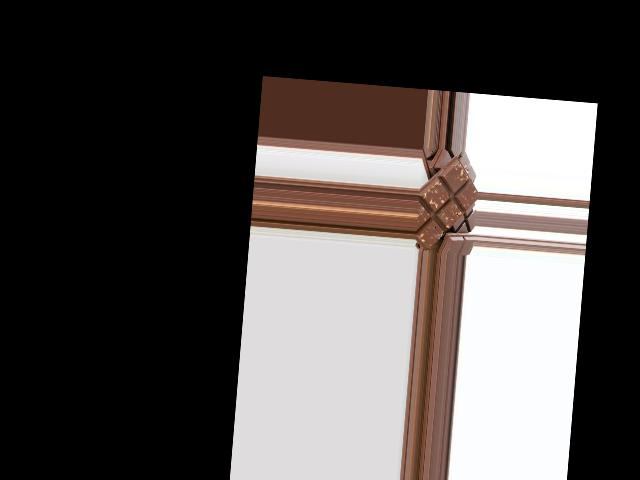chocolate: (414, 160, 479, 252)
